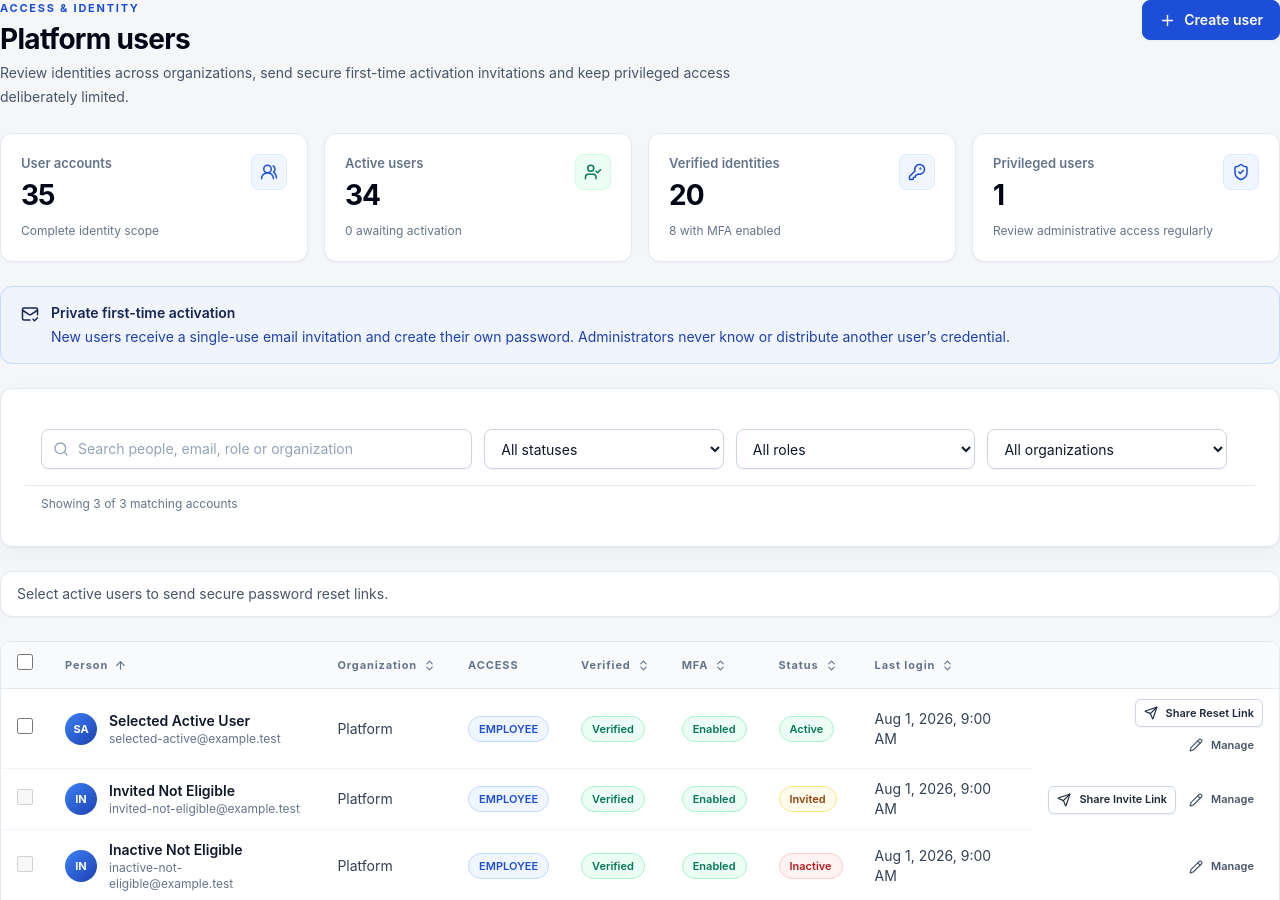
Test: super admin sends password resets to selected active users
This screenshot has width=1280, height=900.
Expected: the text "Selected Active User" is shown, [109, 712, 250, 728]
Expected: the checkbox named "Select Invited Not Eligible for password reset" is disabled, [17, 788, 33, 804]
Click the checkbox named "Select Selected Active User for password reset".
click(25, 726)  # box [17, 718, 33, 734]
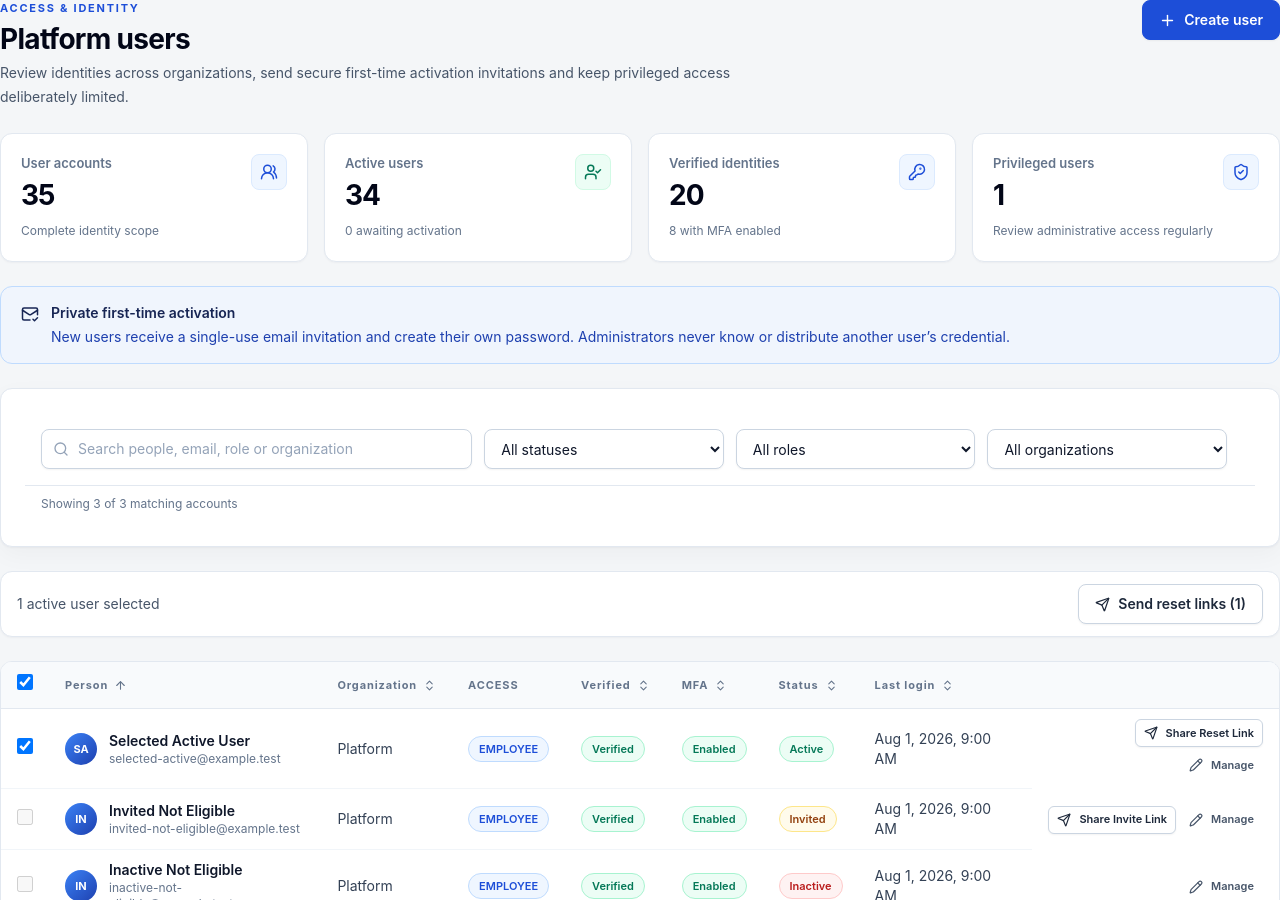
Click the button "Send reset links (1)".
click(1171, 604)  # box [1078, 584, 1263, 624]
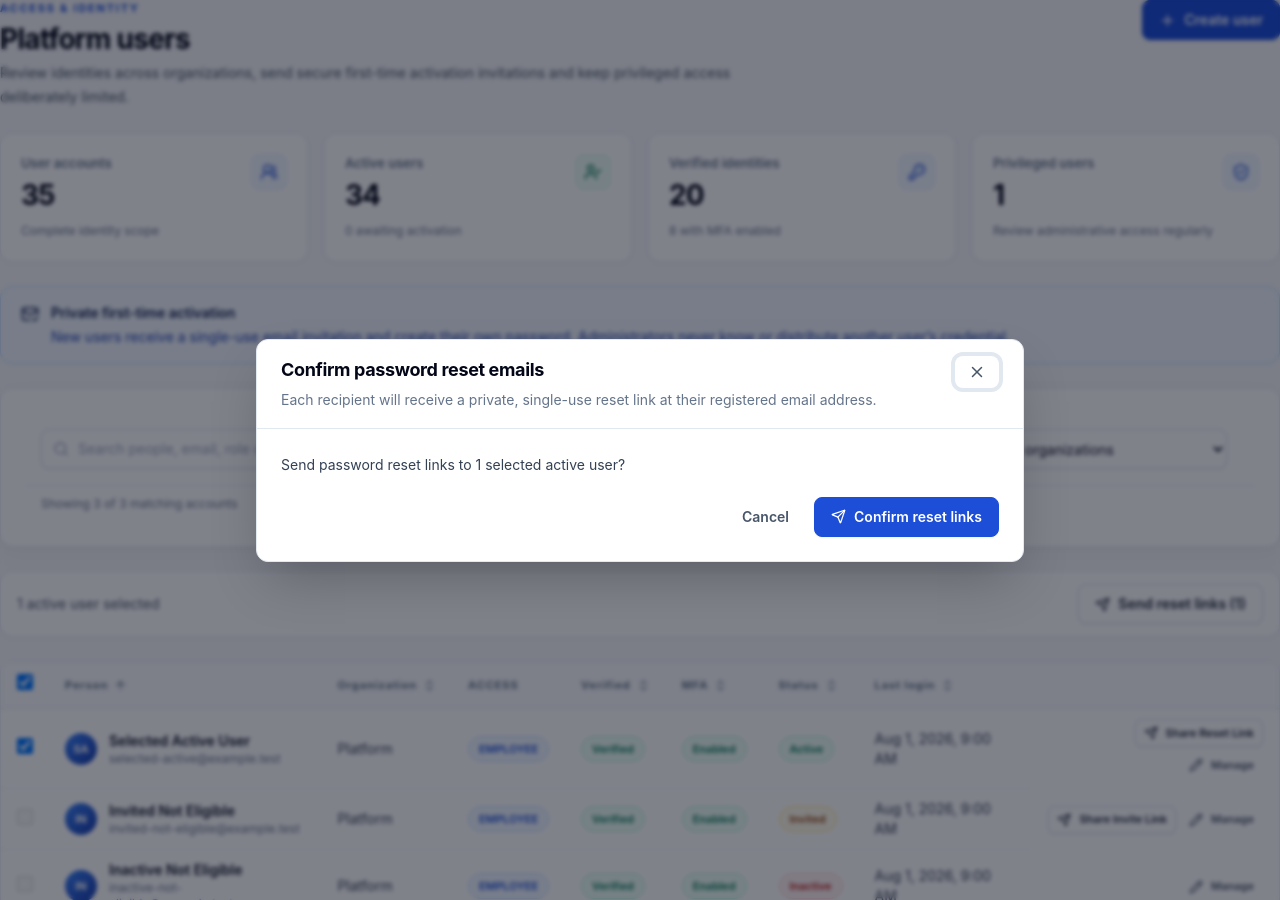
Now the text "Send password reset links to 1 selected active user?" is shown, box [281, 456, 625, 472]
Click the button "Confirm reset links".
click(906, 516)  # box [814, 496, 999, 536]
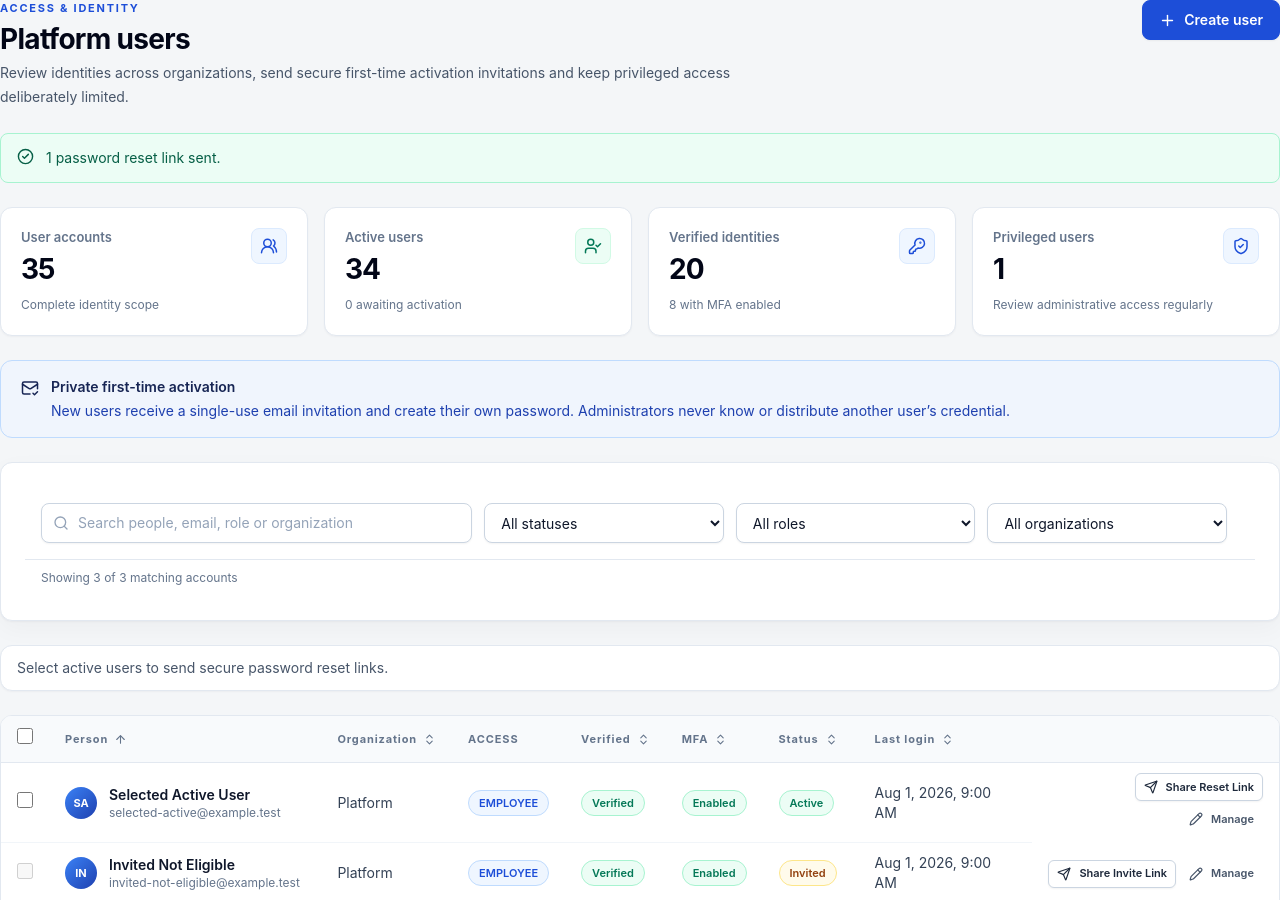
Now the text "1 password reset link sent." is shown, box [46, 146, 220, 170]
